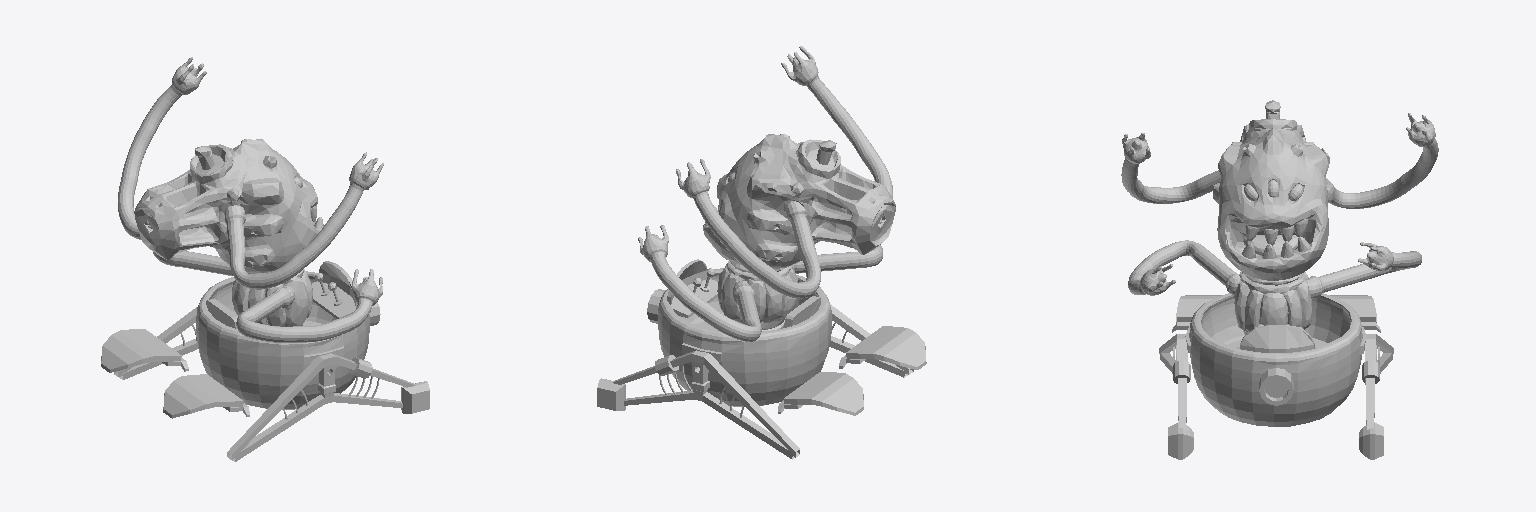
The model's file is victoryoctopus_000017.obj.
3 views of the same model, side by side, from view 1: azimuth 30°, elevation 25°; view 2: azimuth 150°, elevation 25°; view 3: azimuth 270°, elevation 25° (orthographic).
Visible parts, largest first — view 1: head_low, body, arm_up_low_arm_down_low.001, carmature, arm_down_low_arm_down_low.000, wheelprotection, body_low, panel, joint_front, glass; view 2: head_low, body, arm_up_low_arm_down_low.001, carmature, wheelprotection, arm_down_low_arm_down_low.000, body_low, joint_front, panel, cchair, glass; view 3: body, head_low, arm_up_low_arm_down_low.001, arm_down_low_arm_down_low.000, body_low, carmature, glass, wheelprotection, joint_front, teeth_low, mouth_tube, tank.
Part boxes in pixels (bbox=[...]): head_low: bbox=[134, 139, 317, 273]; body: bbox=[196, 271, 369, 409]; arm_up_low_arm_down_low.001: bbox=[118, 57, 383, 289]; carmature: bbox=[114, 307, 414, 461]; arm_down_low_arm_down_low.000: bbox=[153, 251, 382, 342]; wheelprotection: bbox=[101, 329, 249, 418]; body_low: bbox=[232, 269, 312, 326]; panel: bbox=[312, 281, 355, 318]; joint_front: bbox=[401, 381, 429, 413]; glass: bbox=[319, 261, 357, 307]; head_low: bbox=[703, 134, 895, 268]; body: bbox=[658, 268, 831, 406]; arm_up_low_arm_down_low.001: bbox=[676, 46, 892, 298]; carmature: bbox=[613, 304, 913, 459]; wheelprotection: bbox=[778, 326, 926, 415]; arm_down_low_arm_down_low.000: bbox=[638, 225, 882, 341]; body_low: bbox=[717, 261, 797, 331]; joint_front: bbox=[597, 378, 625, 410]; panel: bbox=[671, 279, 717, 317]; cchair: bbox=[783, 296, 820, 327]; glass: bbox=[667, 259, 707, 304]; body: bbox=[1185, 293, 1366, 426]; head_low: bbox=[1213, 100, 1333, 280]; arm_up_low_arm_down_low.001: bbox=[1121, 113, 1438, 208]; arm_down_low_arm_down_low.000: bbox=[1128, 240, 1421, 298]; body_low: bbox=[1234, 272, 1311, 334]; carmature: bbox=[1159, 334, 1393, 429]; glass: bbox=[1240, 325, 1314, 352]; wheelprotection: bbox=[1172, 295, 1380, 332]; joint_front: bbox=[1168, 422, 1383, 459]; teeth_low: bbox=[1242, 219, 1310, 258]; mouth_tube: bbox=[1259, 368, 1293, 405]; tank: bbox=[1173, 361, 1379, 383].
Size of the model in its own units: 2.98 by 3.38 by 3.37.